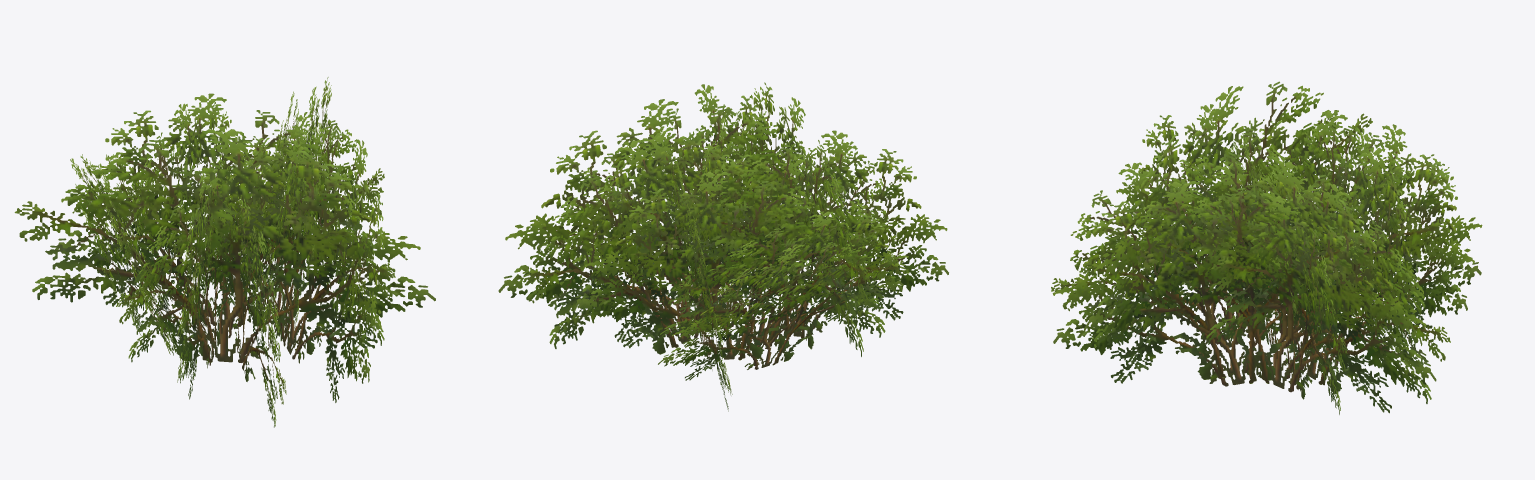
The model's file is far.glb.
3 views of the same model, side by side, from view 1: azimuth 30°, elevation 25°; view 2: azimuth 150°, elevation 25°; view 3: azimuth 270°, elevation 25° (orthographic). The views are drawn at different scales.
Visible parts, largest first — view 1: lod2, lod1; view 2: lod1, lod2; view 3: lod2, lod1.
Boxes of the visible parts, x1,y1,x2,y2 form: lod2: [14, 77, 435, 402]; lod1: [70, 91, 395, 427]; lod1: [519, 111, 948, 380]; lod2: [498, 82, 870, 411]; lod2: [1052, 81, 1482, 413]; lod1: [1051, 104, 1474, 414].
Bounding box in the file's own units: 2.43 × 1.85 × 2.73.
1 material, 1 textured.
